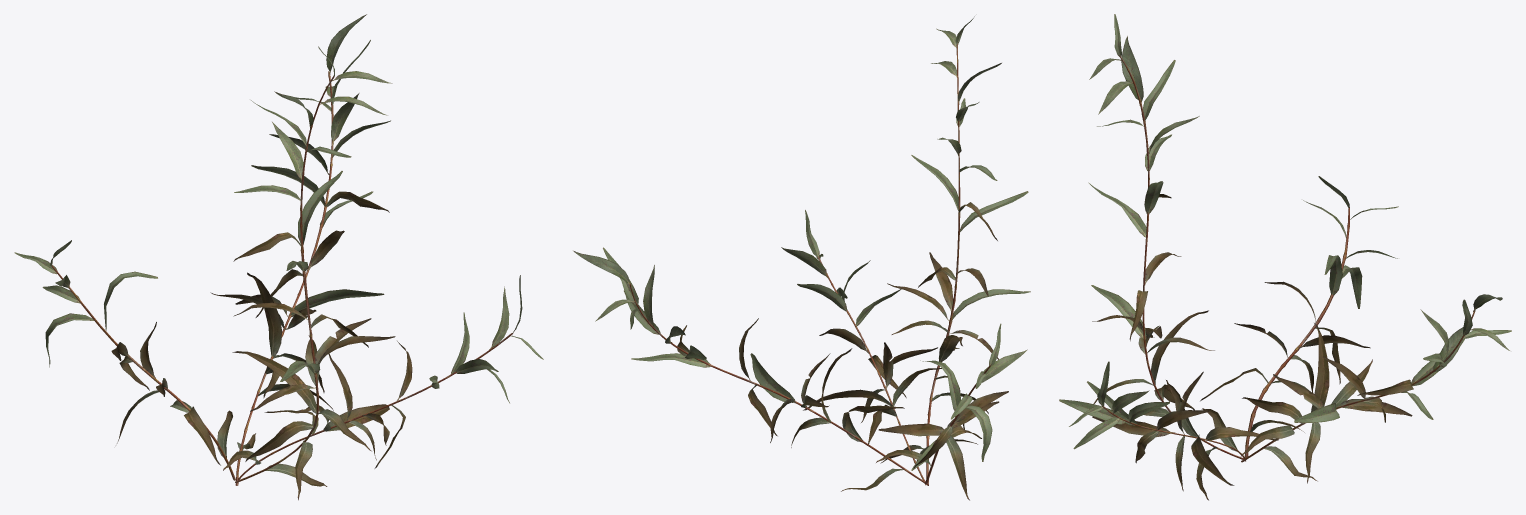
File: shrub_02_d.gltf
The picture shows the model from 3 angles, left to right: view 1: azimuth 30°, elevation 25°; view 2: azimuth 150°, elevation 25°; view 3: azimuth 270°, elevation 25°; orthographic projection. The views are drawn at different scales.
Parts seen in each view (by area): view 1: shrub_02_d; view 2: shrub_02_d; view 3: shrub_02_d.
Part boxes in pixels (box(x1,y1,x2,y2)): shrub_02_d: box(14, 14, 543, 500); shrub_02_d: box(573, 16, 1030, 500); shrub_02_d: box(1059, 14, 1511, 500).
Size of the model in its own units: 1.08 by 1.23 by 1.1.
1 material, 1 textured.
